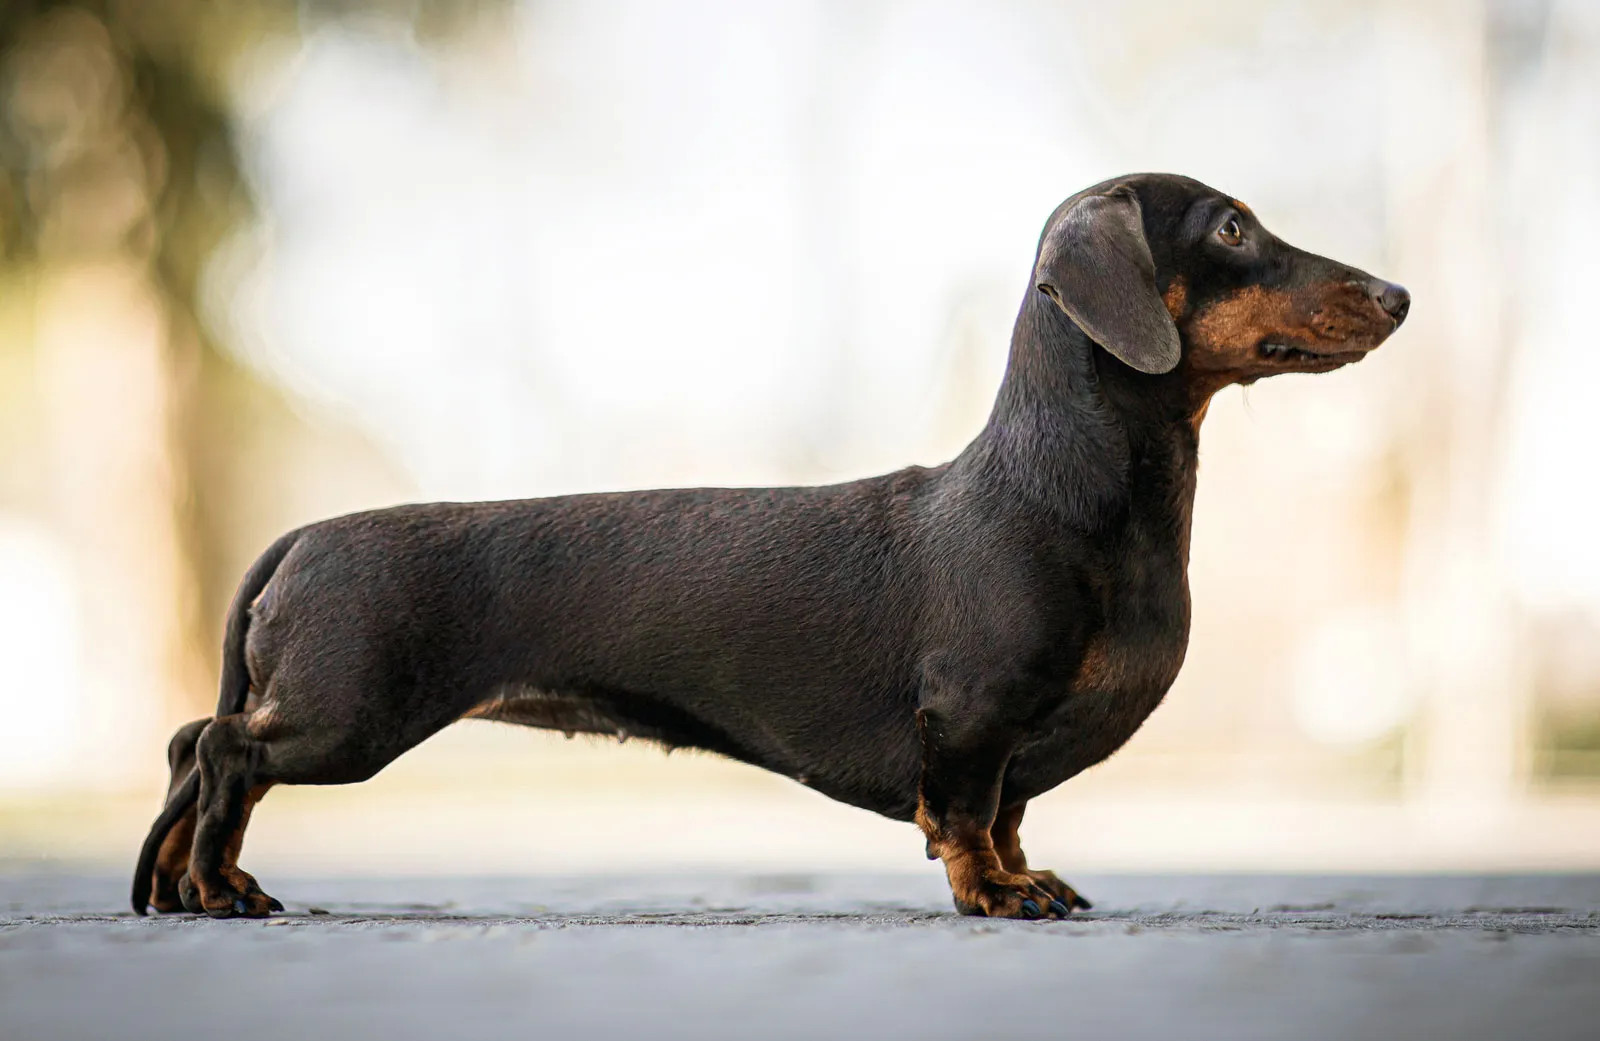dog: (126, 170, 1415, 916)
